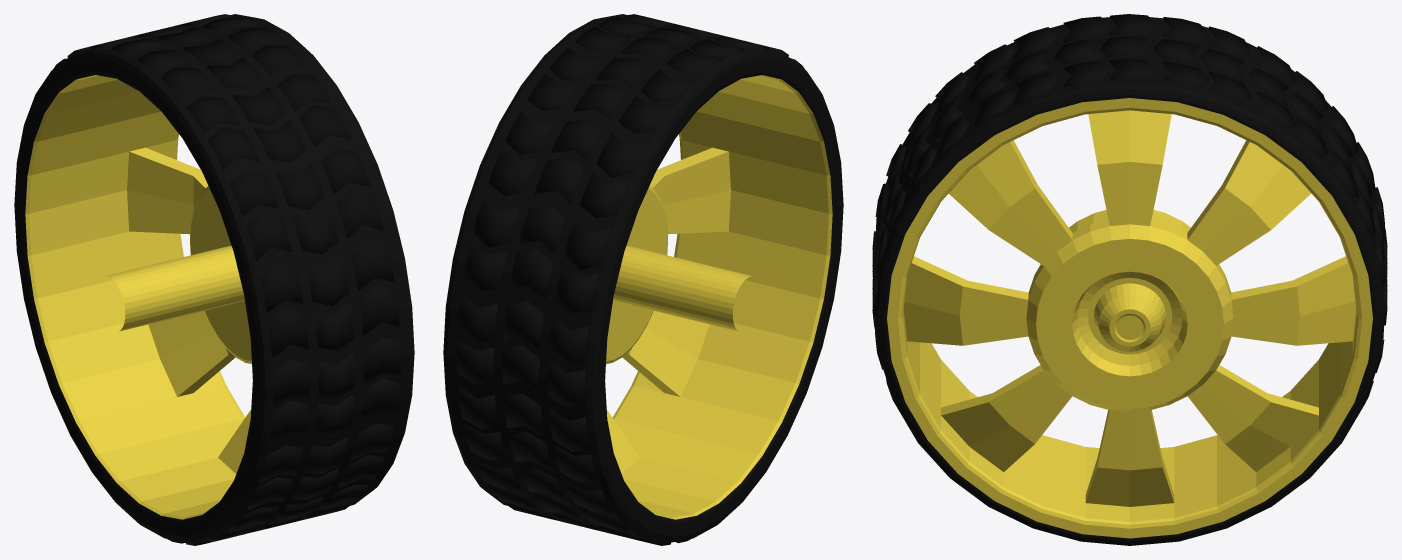
The model's file is bot_wheel_L.gltf.
3 views of the same model, side by side, from view 1: azimuth 30°, elevation 25°; view 2: azimuth 150°, elevation 25°; view 3: azimuth 270°, elevation 25° (orthographic).
Visible parts, largest first — view 1: Actor.Wheel.L; view 2: Actor.Wheel.L; view 3: Actor.Wheel.L.
Part boxes in pixels (bbox=[...]): Actor.Wheel.L: bbox=[14, 14, 414, 545]; Actor.Wheel.L: bbox=[443, 14, 843, 545]; Actor.Wheel.L: bbox=[872, 14, 1387, 545].
Size of what is drawn, in the model's own units: 0.7877 by 1.75 by 1.75.
